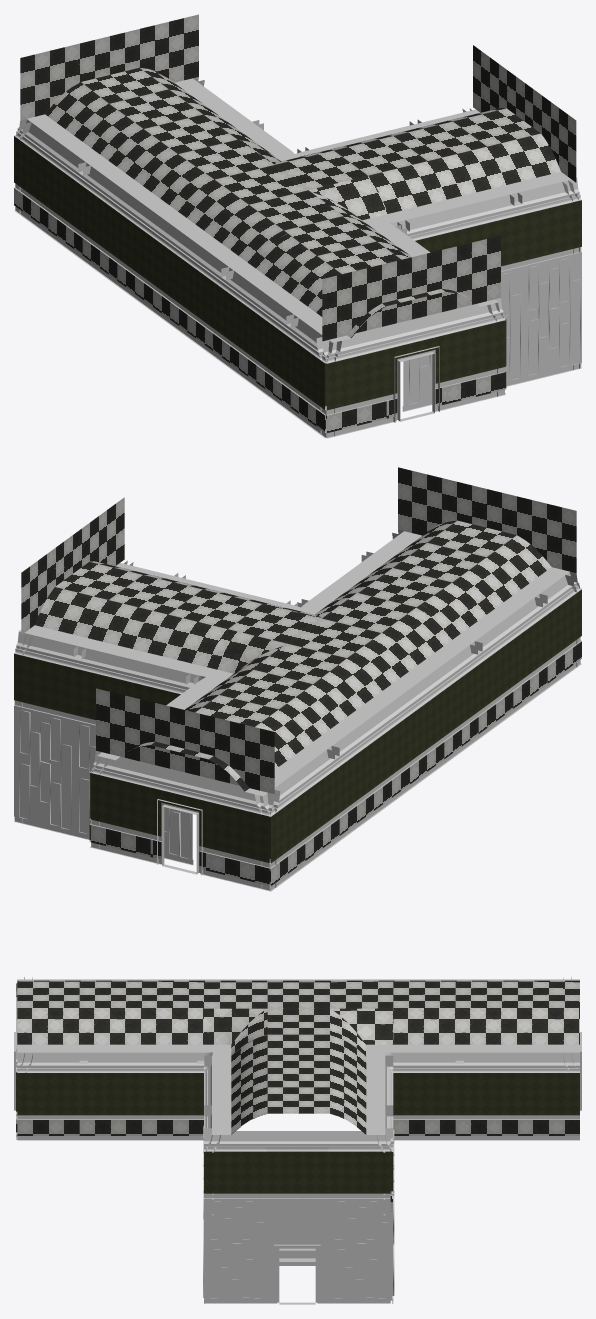
The model's file is Room_4 v3.fbx.
3 views of the same model, one above another, from view 1: azimuth 30°, elevation 25°; view 2: azimuth 150°, elevation 25°; view 3: azimuth 270°, elevation 25° (orthographic). The views are drawn at different scales.
Visible parts, largest first — view 1: Plane.022; view 2: Plane.022; view 3: Plane.022.
Part boxes in pixels (<box>): Plane.022: <box>14,14,581,438</box>; Plane.022: <box>14,467,581,891</box>; Plane.022: <box>14,977,581,1304</box>.
Size of the model in its own units: 1213 by 800 by 1826.
